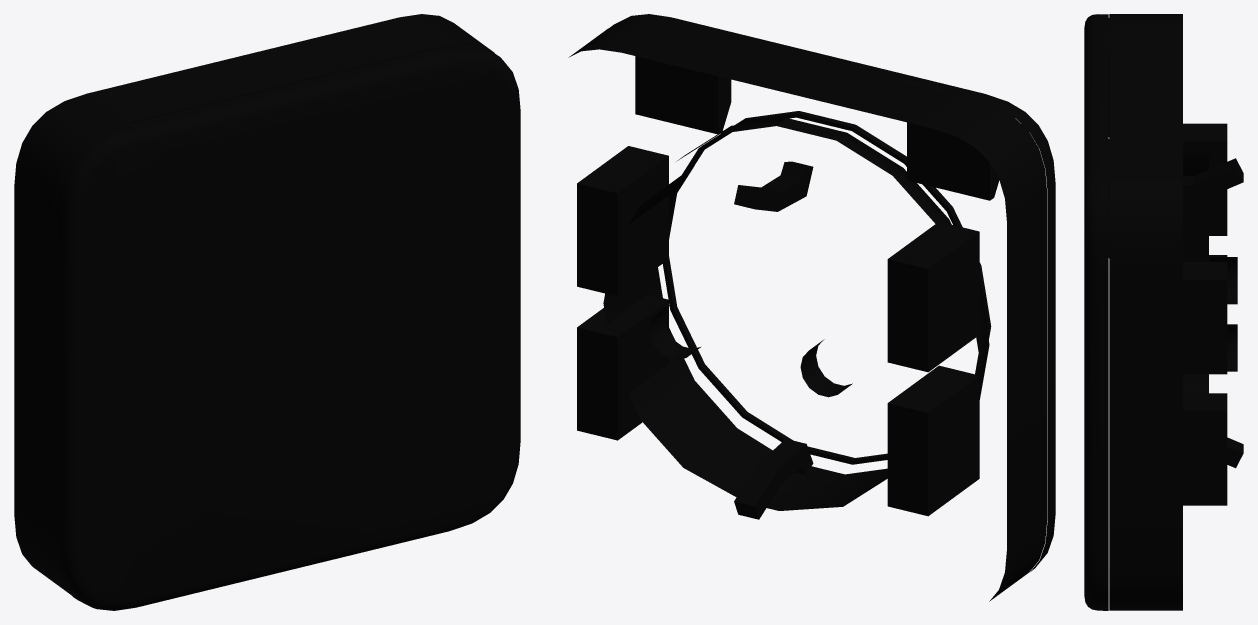
File: steckdose_krom.glb
The picture shows the model from 3 angles, left to right: view 1: azimuth 30°, elevation 25°; view 2: azimuth 150°, elevation 25°; view 3: azimuth 270°, elevation 25°; orthographic projection. The views are drawn at different scales.
Parts seen in each view (by area): view 1: Steckdose _Chrom_Deckel, Steckdose _Schwarz_Basis; view 2: Steckdose _Schwarz_Basis, Steckdose _Chrom_Deckel; view 3: Steckdose _Schwarz_Basis, Steckdose _Chrom_Deckel.
Boxes of the visible parts, x1=… form: Steckdose _Chrom_Deckel: x1=55, y1=44, x2=520, y2=610; Steckdose _Schwarz_Basis: x1=14, y1=14, x2=494, y2=594; Steckdose _Schwarz_Basis: x1=568, y1=14, x2=1047, y2=601; Steckdose _Chrom_Deckel: x1=610, y1=14, x2=1055, y2=571; Steckdose _Schwarz_Basis: x1=1093, y1=14, x2=1243, y2=610; Steckdose _Chrom_Deckel: x1=1084, y1=14, x2=1108, y2=610.
Size of the model in its own units: 0.0602 by 0.0602 by 0.0199.
2 materials, 1 textured.
